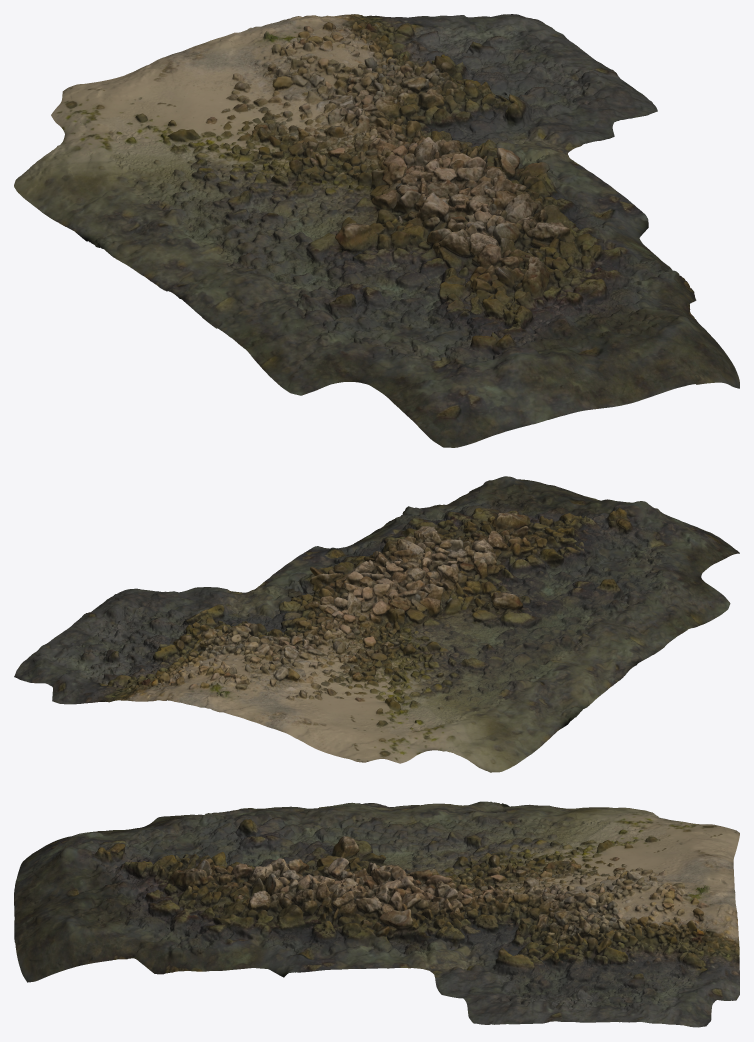
The model's file is coast_rocks_03.glb.
3 renders of one model, top to bottom at view 1: azimuth 30°, elevation 25°; view 2: azimuth 150°, elevation 25°; view 3: azimuth 270°, elevation 25°, orthographic. The views are drawn at different scales.
Parts seen in each view (by area): view 1: coast_rocks_03; view 2: coast_rocks_03; view 3: coast_rocks_03.
Part boxes in pixels (<box>): coast_rocks_03: <box>14,14,739,447</box>; coast_rocks_03: <box>14,476,739,772</box>; coast_rocks_03: <box>14,801,739,1027</box>.
Bounding box in the file's own units: 21.12 × 3.2 × 28.27.
Materials: 1 (1 with a texture image).
